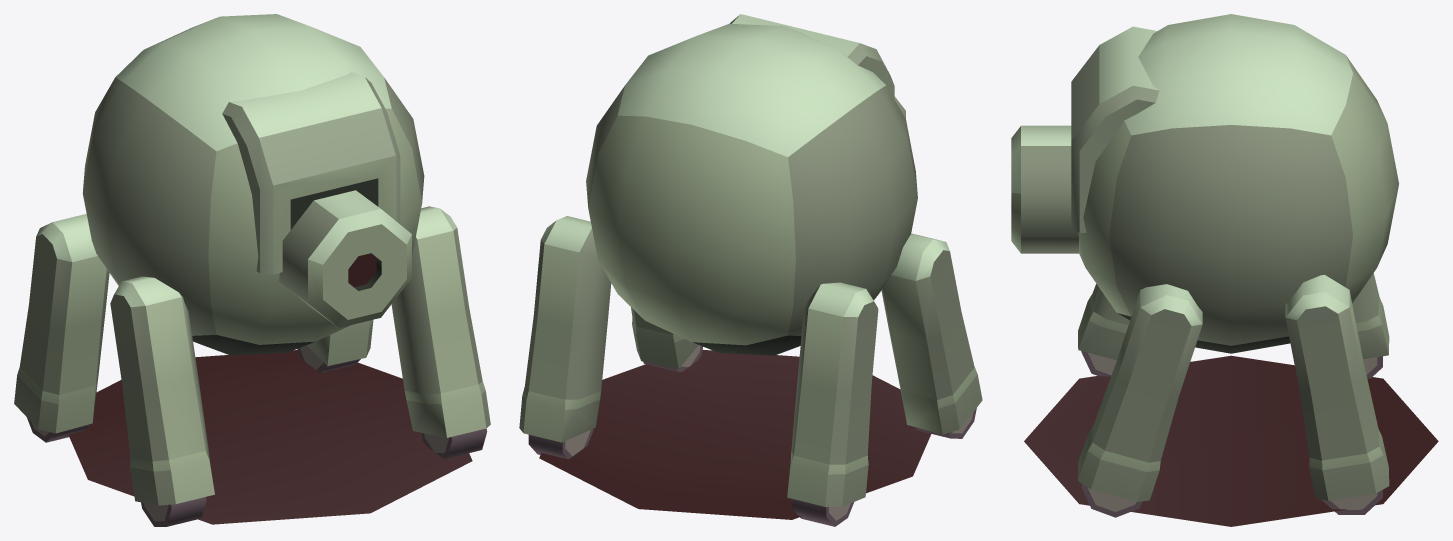
File: NeoTankMesh.JadeSun.glb
3 renders of one model, left to right at view 1: azimuth 30°, elevation 25°; view 2: azimuth 150°, elevation 25°; view 3: azimuth 270°, elevation 25°, orthographic. The views are drawn at different scales.
Visible parts, largest first — view 1: NeoTankMesh.JadeSun; view 2: NeoTankMesh.JadeSun; view 3: NeoTankMesh.JadeSun.
Boxes of the visible parts, left/top/right/bottom form: NeoTankMesh.JadeSun: left=14, top=14, right=490, bottom=526; NeoTankMesh.JadeSun: left=519, top=14, right=982, bottom=526; NeoTankMesh.JadeSun: left=1011, top=14, right=1438, bottom=526.
Size of the model in its own units: 2.03 by 2.26 by 2.14.
Materials: 1 (1 with a texture image).
